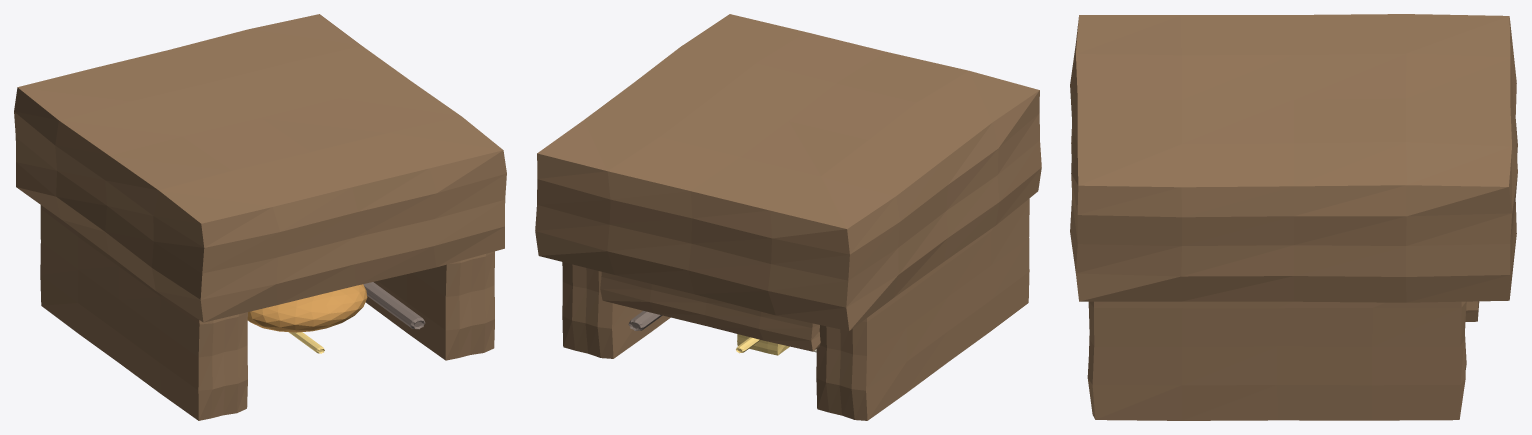
File: mochila-simple.glb
3 renders of one model, left to right at view 1: azimuth 30°, elevation 25°; view 2: azimuth 150°, elevation 25°; view 3: azimuth 270°, elevation 25°, orthographic. The views are drawn at different scales.
Visible parts, largest first — view 1: mochila-simple_00, mochila-simple_02, mochila-simple_03, mochila-simple_04, Detalle_05; view 2: mochila-simple_00, mochila-simple_02, mochila-simple_01, mochila-simple_03; view 3: mochila-simple_00, mochila-simple_03.
Part boxes in pixels (x1=…): mochila-simple_00: x1=14, y1=14, x2=506, y2=322; mochila-simple_02: x1=40, y1=205, x2=247, y2=420; mochila-simple_03: x1=365, y1=251, x2=494, y2=360; mochila-simple_04: x1=247, y1=284, x2=367, y2=332; Detalle_05: x1=363, y1=282, x2=425, y2=329; mochila-simple_00: x1=535, y1=14, x2=1041, y2=330; mochila-simple_02: x1=816, y1=198, x2=1029, y2=420; mochila-simple_01: x1=600, y1=272, x2=820, y2=351; mochila-simple_03: x1=562, y1=262, x2=670, y2=358; mochila-simple_00: x1=1070, y1=14, x2=1517, y2=302; mochila-simple_03: x1=1087, y1=301, x2=1466, y2=420.
Bounding box in the file's own units: 0.7494 × 0.4738 × 0.7989.
